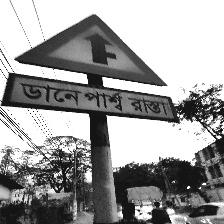Side-road-right: (2, 12, 176, 123)
